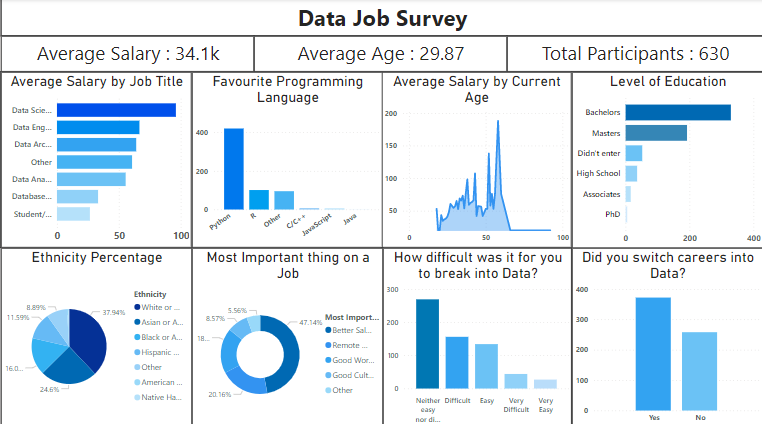

Layout of this report page (visuals, bound fields, positions):
{"tool":"powerbi","page":{"name":"Primary","canvas":[1280,720],"ordinal":0},"visuals":[{"type":"barChart","title":"Average Salary by Job Title","fields":{"Category":["Data Professional Survey.Q1 - Which Title Best Fits your Current Role?.1"],"Y":["Avg(Data Professional Survey.Average Salary)"],"Series":["Data Professional Survey.Q1 - Which Title Best Fits your Current Role?.1"]},"box":[0,122.6,320,295],"z":0},{"type":"areaChart","fields":{"Category":["Data Professional Survey.Q10 - Current Age"],"Y":["Avg(Data Professional Survey.Average Salary)"]},"box":[638.3,122.6,320,295],"z":1000},{"type":"columnChart","title":"Favourite Programming Language","fields":{"Category":["Data Professional Survey.Q5 - Favorite Programming Language.1"],"Y":["CountNonNull(Data Professional Survey.Unique ID)"],"Series":["Data Professional Survey.Q5 - Favorite Programming Language.1"]},"box":[320.8,122.6,320,295],"z":2000},{"type":"textbox","box":[0,0,1280,62.2],"z":3000},{"type":"clusteredBarChart","title":"Level of Education","fields":{"Category":["Data Professional Survey.Q12 - Highest Level of Education"],"Y":["CountNonNull(Data Professional Survey.Unique ID)"]},"box":[959.2,122.6,320.8,295.6],"z":4000},{"type":"pieChart","title":" Ethnicity Percentage","fields":{"Category":["Data Professional Survey.Q13 - Ethnicity.1"],"Y":["CountNonNull(Data Professional Survey.Unique ID)"]},"box":[0,418.3,320.8,302.4],"z":5000},{"type":"donutChart","title":"Most Important thing on a Job","fields":{"Category":["Data Professional Survey.Q8 - If you were to look for a new job today, what would be the most important t"],"Y":["CountNonNull(Data Professional Survey.Unique ID)"]},"box":[320.8,418.3,320.8,302.4],"z":6000},{"type":"columnChart","title":"How difficult was it for you to break into Data?","fields":{"Category":["Data Professional Survey.Q7 - How difficult was it for you to break into Data?"],"Y":["CountNonNull(Data Professional Survey.Unique ID)"]},"box":[641.7,418.3,317.5,302.4],"z":7000},{"type":"columnChart","title":"Did you switch careers into Data?","fields":{"Category":["Data Professional Survey.Q2 - Did you switch careers into Data?"],"Y":["CountNonNull(Data Professional Survey.Unique ID)"]},"box":[959.2,418.3,320.8,302.4],"z":8000},{"type":"textbox","box":[850,62.2,430,60.5],"z":9000},{"type":"textbox","box":[425,62.2,425,60.5],"z":9001},{"type":"textbox","box":[0,62.2,425,60.5],"z":9002}]}

Visuals, with their boxes in screenshot pixels (x1, y1, x2, y2), scaled from the page's 1280x720 canvas onto the 762x424 screenshot:
"Average Salary by Job Title" barChart: (0,72,190,246)
areaChart - Data Professional Survey.Q10 - Current Age x Avg(Data Professional Survey.Average Salary): (380,72,570,246)
"Favourite Programming Language" columnChart: (191,72,381,246)
textbox: (0,0,761,37)
"Level of Education" clusteredBarChart: (571,72,761,246)
" Ethnicity Percentage" pieChart: (0,246,191,423)
"Most Important thing on a Job" donutChart: (191,246,382,423)
"How difficult was it for you to break into Data?" columnChart: (382,246,571,423)
"Did you switch careers into Data?" columnChart: (571,246,761,423)
textbox: (506,37,761,72)
textbox: (253,37,506,72)
textbox: (0,37,253,72)
